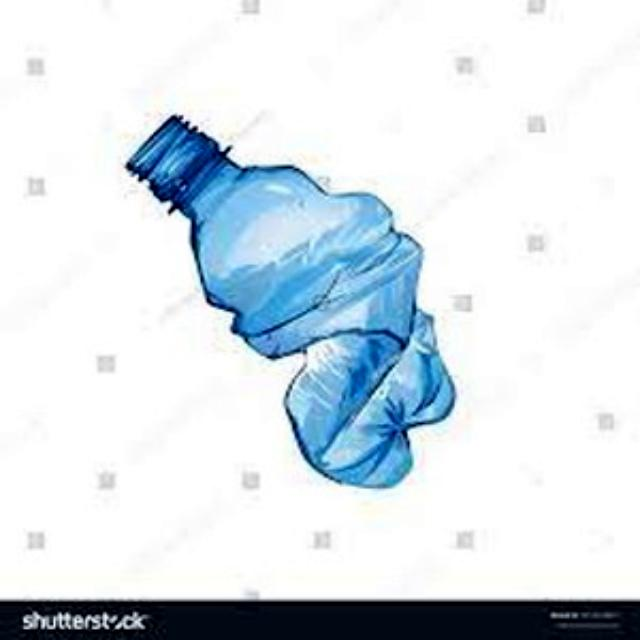Plastic: (122, 116, 456, 490)
